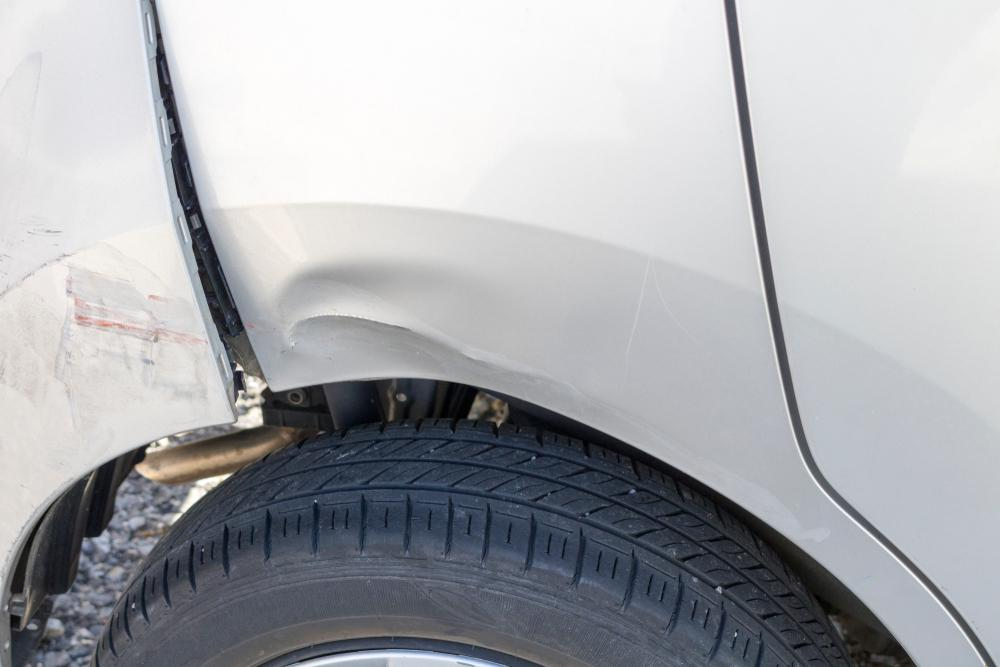dent: (279, 258, 501, 380)
scratch: (0, 226, 206, 411)
